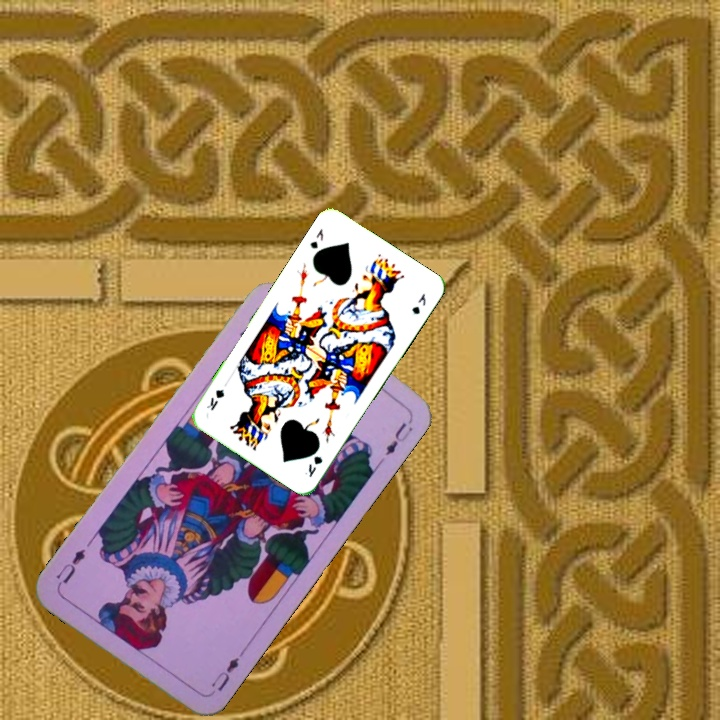EU: (206, 647, 247, 694)
GK: (301, 452, 325, 480), (306, 224, 326, 251)
